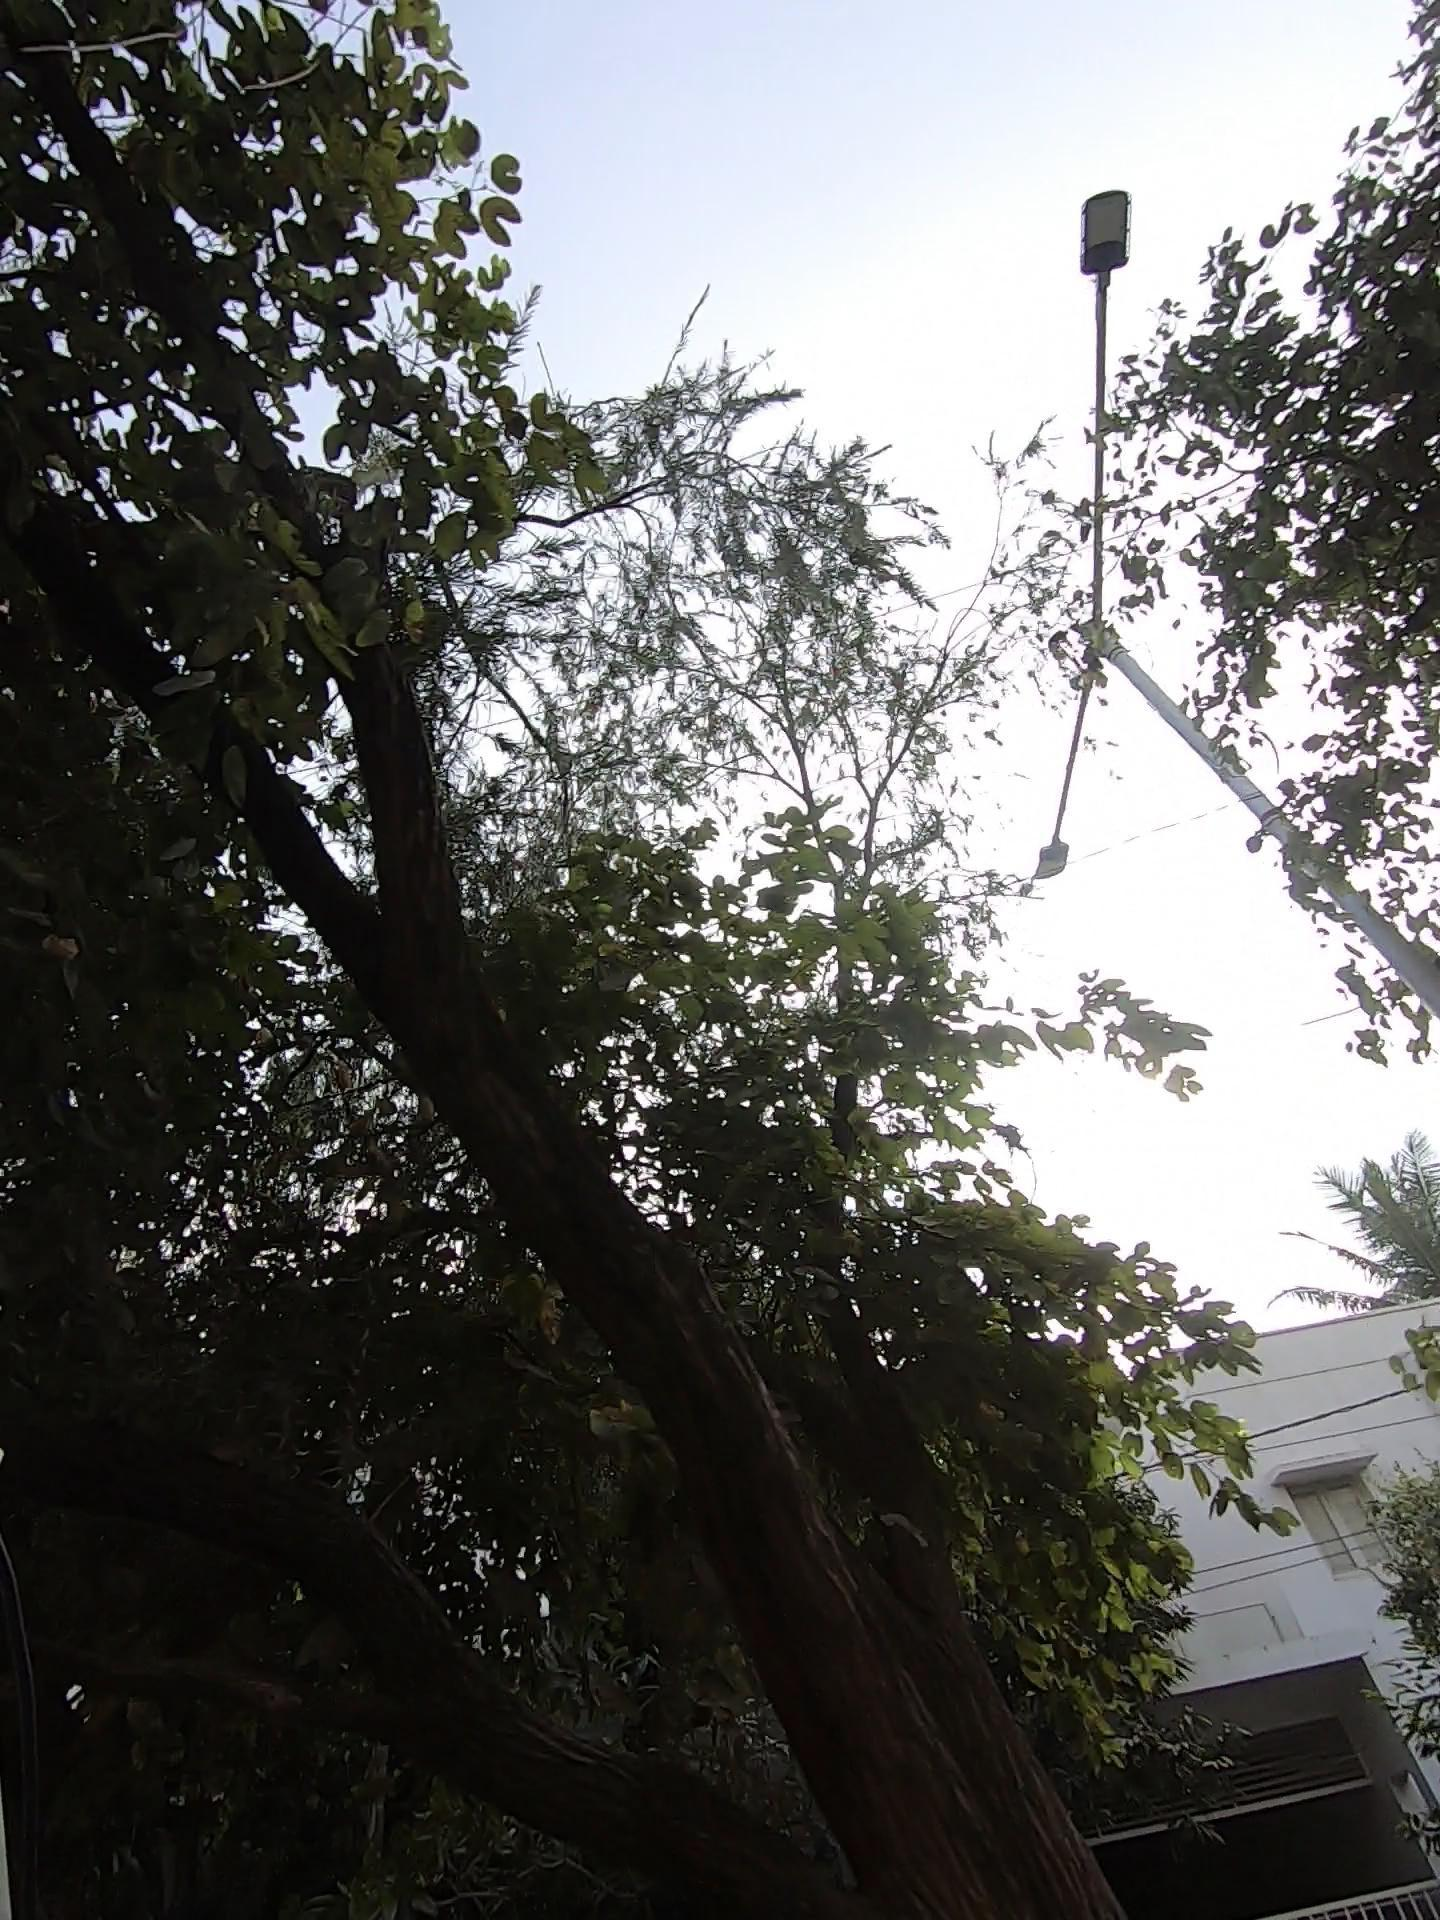off: (950, 171, 1236, 924)
